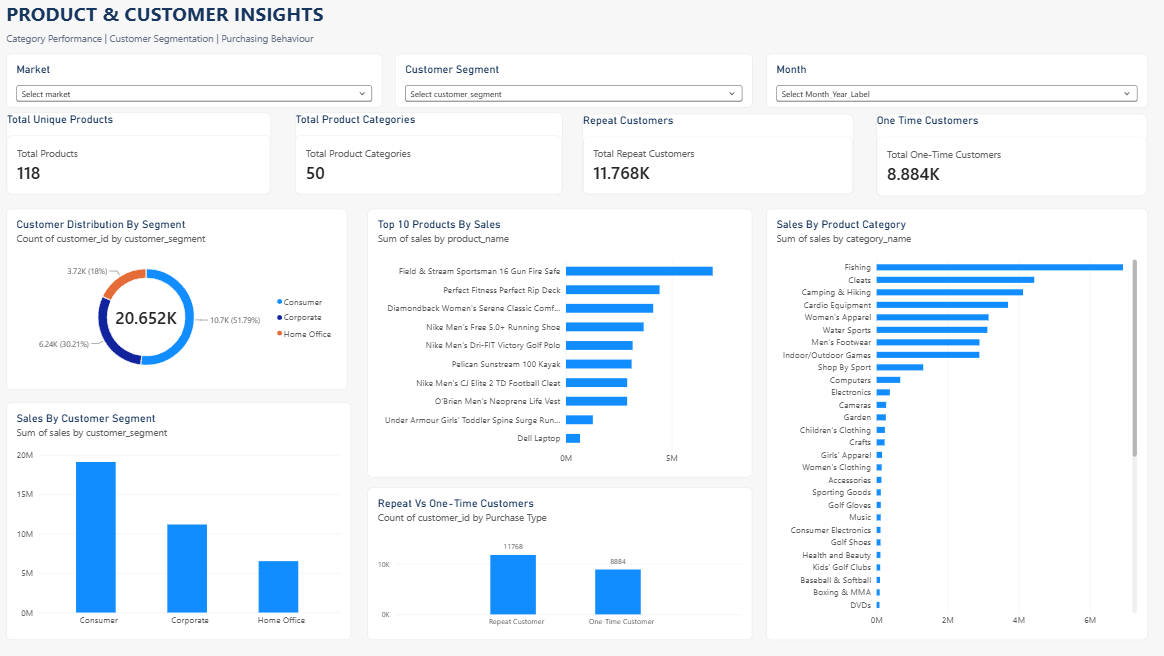

The page's visual inventory and layout, read from the dashboard file:
{"tool":"powerbi","page":{"name":"Product & Customer Insights","canvas":[1920,1080],"ordinal":2},"visuals":[{"type":"textbox","box":[10,0,538,52],"z":0},{"type":"textbox","box":[10,52,514,38],"z":1000},{"type":"cardVisual","title":"Total Unique Products","fields":{"Data":["supply_chain_analytics supply_chain_orders.Total Products"]},"box":[10.3,185.2,436.4,135.8],"z":2000},{"type":"cardVisual","title":"Total Product Categories","fields":{"Data":["supply_chain_analytics supply_chain_orders.Total Product Categories"]},"box":[485.8,185.2,440.5,135.8],"z":3000},{"type":"cardVisual","title":"Repeat Customers","fields":{"Data":["supply_chain_analytics supply_chain_orders.Total Repeat Customers"]},"box":[959.2,187.3,446.7,133.8],"z":4000},{"type":"cardVisual","title":"One Time Customers","fields":{"Data":["supply_chain_analytics supply_chain_orders.Total One-Time Customers"]},"box":[1442.9,187.3,446.7,135.8],"z":5000},{"type":"clusteredBarChart","title":"Sales By Product Category","fields":{"Category":["supply_chain_analytics supply_chain_orders.category_name"],"Y":["Sum(supply_chain_analytics supply_chain_orders.sales)"]},"box":[1261.8,343.7,627.8,710.1],"z":6000},{"type":"clusteredBarChart","title":"Top 10 Products By Sales","fields":{"Category":["supply_chain_analytics supply_chain_orders.product_name"],"Y":["Sum(supply_chain_analytics supply_chain_orders.sales)"]},"box":[605.1,343.7,634,442.5],"z":7000},{"type":"clusteredColumnChart","title":"Sales By Customer Segment","fields":{"Category":["supply_chain_analytics supply_chain_orders.customer_segment"],"Y":["Sum(supply_chain_analytics supply_chain_orders.sales)"]},"box":[10.3,662.8,568.1,391.1],"z":8000},{"type":"clusteredColumnChart","title":"Repeat Vs One-Time Customers","fields":{"Category":["Customer Purchase Type.Purchase Type"],"Y":["Count(Customer Purchase Type.customer_id)"]},"box":[605.1,802.7,634,251.1],"z":9000},{"type":"donutChart","title":"Customer Distribution By Segment","fields":{"Category":["supply_chain_analytics supply_chain_orders.customer_segment"],"Y":["Count(supply_chain_analytics supply_chain_orders.customer_id)"]},"box":[10.3,343.7,561.9,298.5],"z":10000},{"type":"listSlicer","title":"Market","fields":{"Values":["supply_chain_analytics supply_chain_orders.market"]},"box":[10.3,88.5,619.6,88.5],"z":10001},{"type":"listSlicer","title":"Customer Segment","fields":{"Values":["supply_chain_analytics supply_chain_orders.customer_segment"]},"box":[650.4,88.5,588.7,88.5],"z":10002},{"type":"listSlicer","title":"Month","fields":{"Values":["supply_chain_analytics supply_chain_orders.Month_Year_Label"]},"box":[1261.8,88.5,627.8,88.5],"z":10003}]}

Visuals, with their boxes in screenshot pixels (x1, y1, x2, y2), scaled from the page's 1920x1080 canvas onto the 1164x656 screenshot:
textbox: left=6, top=0, right=332, bottom=32
textbox: left=6, top=32, right=318, bottom=55
"Total Unique Products" cardVisual: left=6, top=112, right=271, bottom=195
"Total Product Categories" cardVisual: left=295, top=112, right=562, bottom=195
"Repeat Customers" cardVisual: left=582, top=114, right=852, bottom=195
"One Time Customers" cardVisual: left=875, top=114, right=1146, bottom=196
"Sales By Product Category" clusteredBarChart: left=765, top=209, right=1146, bottom=640
"Top 10 Products By Sales" clusteredBarChart: left=367, top=209, right=751, bottom=478
"Sales By Customer Segment" clusteredColumnChart: left=6, top=403, right=351, bottom=640
"Repeat Vs One-Time Customers" clusteredColumnChart: left=367, top=488, right=751, bottom=640
"Customer Distribution By Segment" donutChart: left=6, top=209, right=347, bottom=390
"Market" listSlicer: left=6, top=54, right=382, bottom=108
"Customer Segment" listSlicer: left=394, top=54, right=751, bottom=108
"Month" listSlicer: left=765, top=54, right=1146, bottom=108
